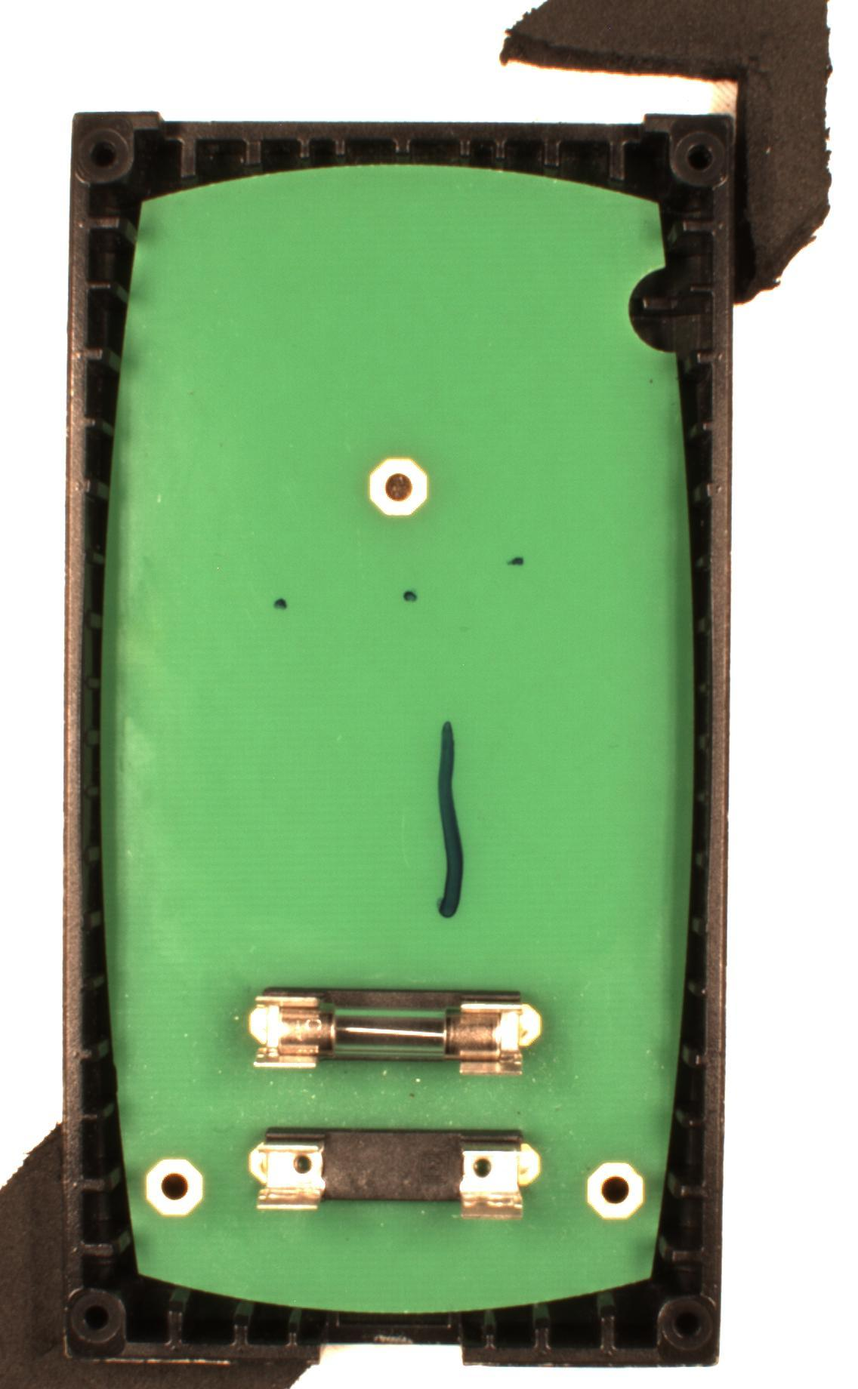Linijsko Ostecene: (429, 718, 469, 922)
Nepostojanje osiguraca: (246, 1123, 545, 1223)
Tockasto Ostecenje: (503, 552, 528, 569), (400, 587, 421, 606), (270, 595, 290, 612)
